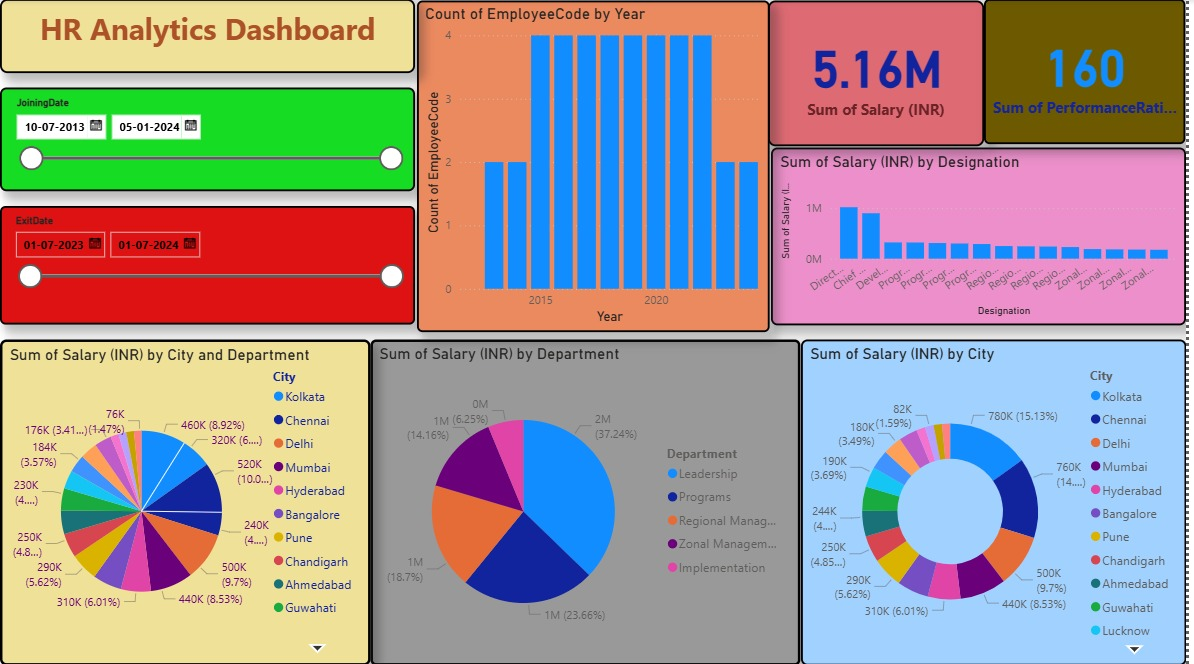

Layout of this report page (visuals, bound fields, positions):
{"tool":"powerbi","page":{"name":"HR Dashboard","canvas":[1280,720],"ordinal":0},"visuals":[{"type":"clusteredColumnChart","fields":{"Category":["HR Data India.Designation"],"Y":["Sum(HR Data India.Salary (INR))"]},"box":[832,160,448,192],"z":0},{"type":"pieChart","fields":{"Category":["HR Data India.Department"],"Y":["Sum(HR Data India.Salary (INR))"]},"box":[400,368,464,352],"z":1000},{"type":"donutChart","fields":{"Category":["HR Data India.City"],"Y":["Sum(HR Data India.Salary (INR))"]},"box":[864,368,416,352],"z":2000},{"type":"card","fields":{"Values":["Sum(HR Data India.Salary (INR))"]},"box":[829,1.6,233.2,157.1],"z":3000},{"type":"card","fields":{"Values":["Sum(HR Data India.PerformanceRating)"]},"box":[1062.1,0,217.3,156.9],"z":4000},{"type":"map","fields":{"Category":["HR Data.City"],"Series":["HR Data.EmployeeID"]},"box":[28.3,389.3,325,330.7],"z":5000},{"type":"slicer","fields":{"Values":["HR Data India.JoiningDate"]},"box":[0,96,448,112],"z":6000},{"type":"pieChart","fields":{"Category":["HR Data India.City"],"Series":["HR Data India.Department"],"Y":["Sum(HR Data India.Salary (INR))"]},"box":[0,368,400,352],"z":7000},{"type":"slicer","fields":{"Values":["HR Data India.ExitDate"]},"box":[0,224,448,128],"z":8000},{"type":"columnChart","fields":{"Category":["HR Data India.JoiningDate.Variation.Date Hierarchy.Year","HR Data India.JoiningDate.Variation.Date Hierarchy.Quarter","HR Data India.JoiningDate.Variation.Date Hierarchy.Month","HR Data India.JoiningDate.Variation.Date Hierarchy.Day","HR Data India.ExitDate.Variation.Date Hierarchy.Year","HR Data India.ExitDate.Variation.Date Hierarchy.Quarter","HR Data India.ExitDate.Variation.Date Hierarchy.Month","HR Data India.ExitDate.Variation.Date Hierarchy.Day"],"Y":["CountNonNull(HR Data India.EmployeeCode)"]},"box":[450.1,1.6,380.5,357.8],"z":9000},{"type":"textbox","box":[0,0,448,80],"z":9002}]}

Visuals, with their boxes in screenshot pixels (x1, y1, x2, y2), scaled from the page's 1280x720 canvas onto the 1194x664 screenshot:
clusteredColumnChart - HR Data India.Designation x Sum(HR Data India.Salary (INR)): 776, 148, 1193, 325
pieChart - HR Data India.Department x Sum(HR Data India.Salary (INR)): 373, 339, 806, 663
donutChart - HR Data India.City x Sum(HR Data India.Salary (INR)): 806, 339, 1193, 663
card - Sum(HR Data India.Salary (INR)): 773, 1, 991, 146
card - Sum(HR Data India.PerformanceRating): 991, 0, 1193, 145
map - HR Data.City x HR Data.EmployeeID: 26, 359, 330, 663
slicer - HR Data India.JoiningDate: 0, 89, 418, 192
pieChart - HR Data India.City x HR Data India.Department: 0, 339, 373, 663
slicer - HR Data India.ExitDate: 0, 207, 418, 325
columnChart - HR Data India.JoiningDate.Variation.Date Hierarchy.Year x HR Data India.JoiningDate.Variation.Date Hierarchy.Quarter: 420, 1, 775, 331
textbox: 0, 0, 418, 74
